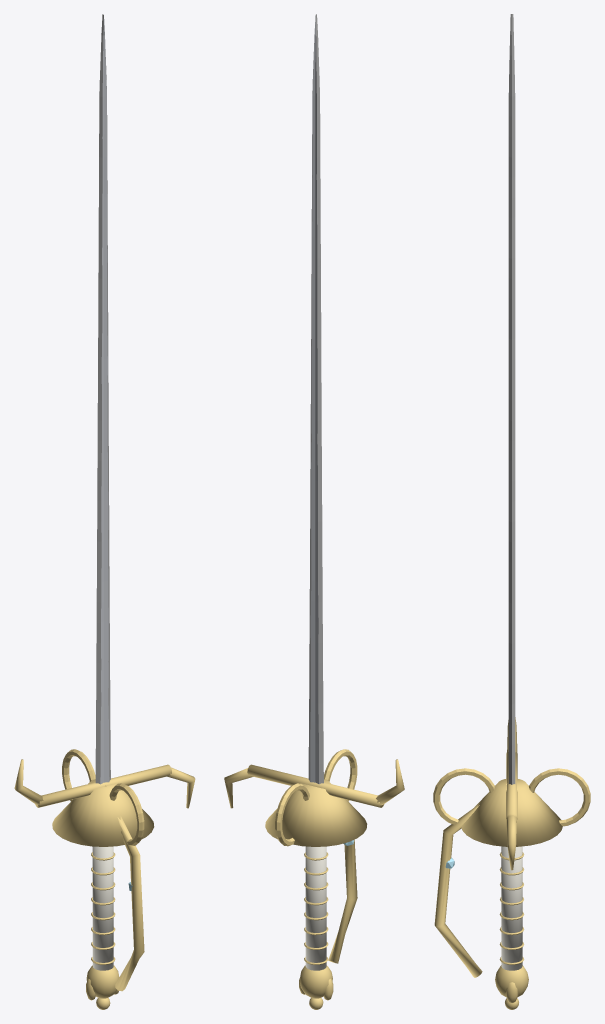
The model's file is devalois_rapier.glb.
3 renders of one model, left to right at view 1: azimuth 30°, elevation 25°; view 2: azimuth 150°, elevation 25°; view 3: azimuth 270°, elevation 25°, orthographic.
Visible parts, largest first — view 1: G_devalois_rapier; view 2: G_devalois_rapier; view 3: G_devalois_rapier.
Part boxes in pixels (box(x1,y1,x2,y2)): G_devalois_rapier: box(14, 14, 195, 1009); G_devalois_rapier: box(224, 14, 404, 1009); G_devalois_rapier: box(433, 14, 590, 1009).
Size of the model in its own units: 0.2447 by 1.3 by 0.1856.
